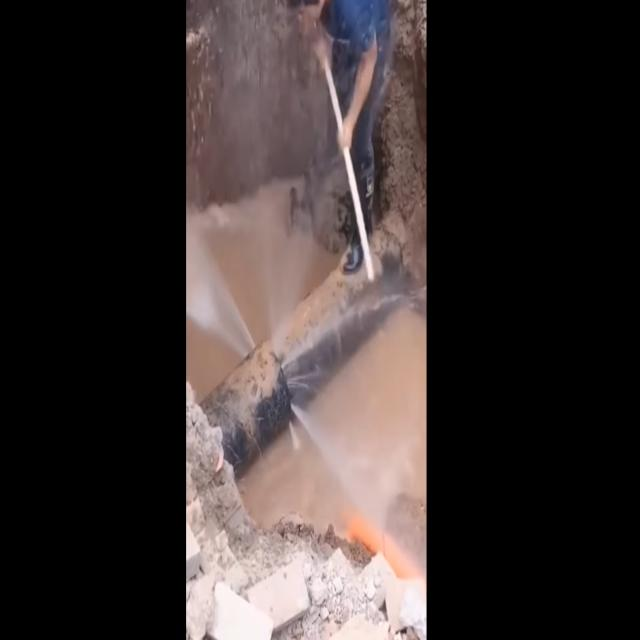leak: (186, 218, 255, 358), (291, 402, 350, 491), (281, 304, 350, 367)
